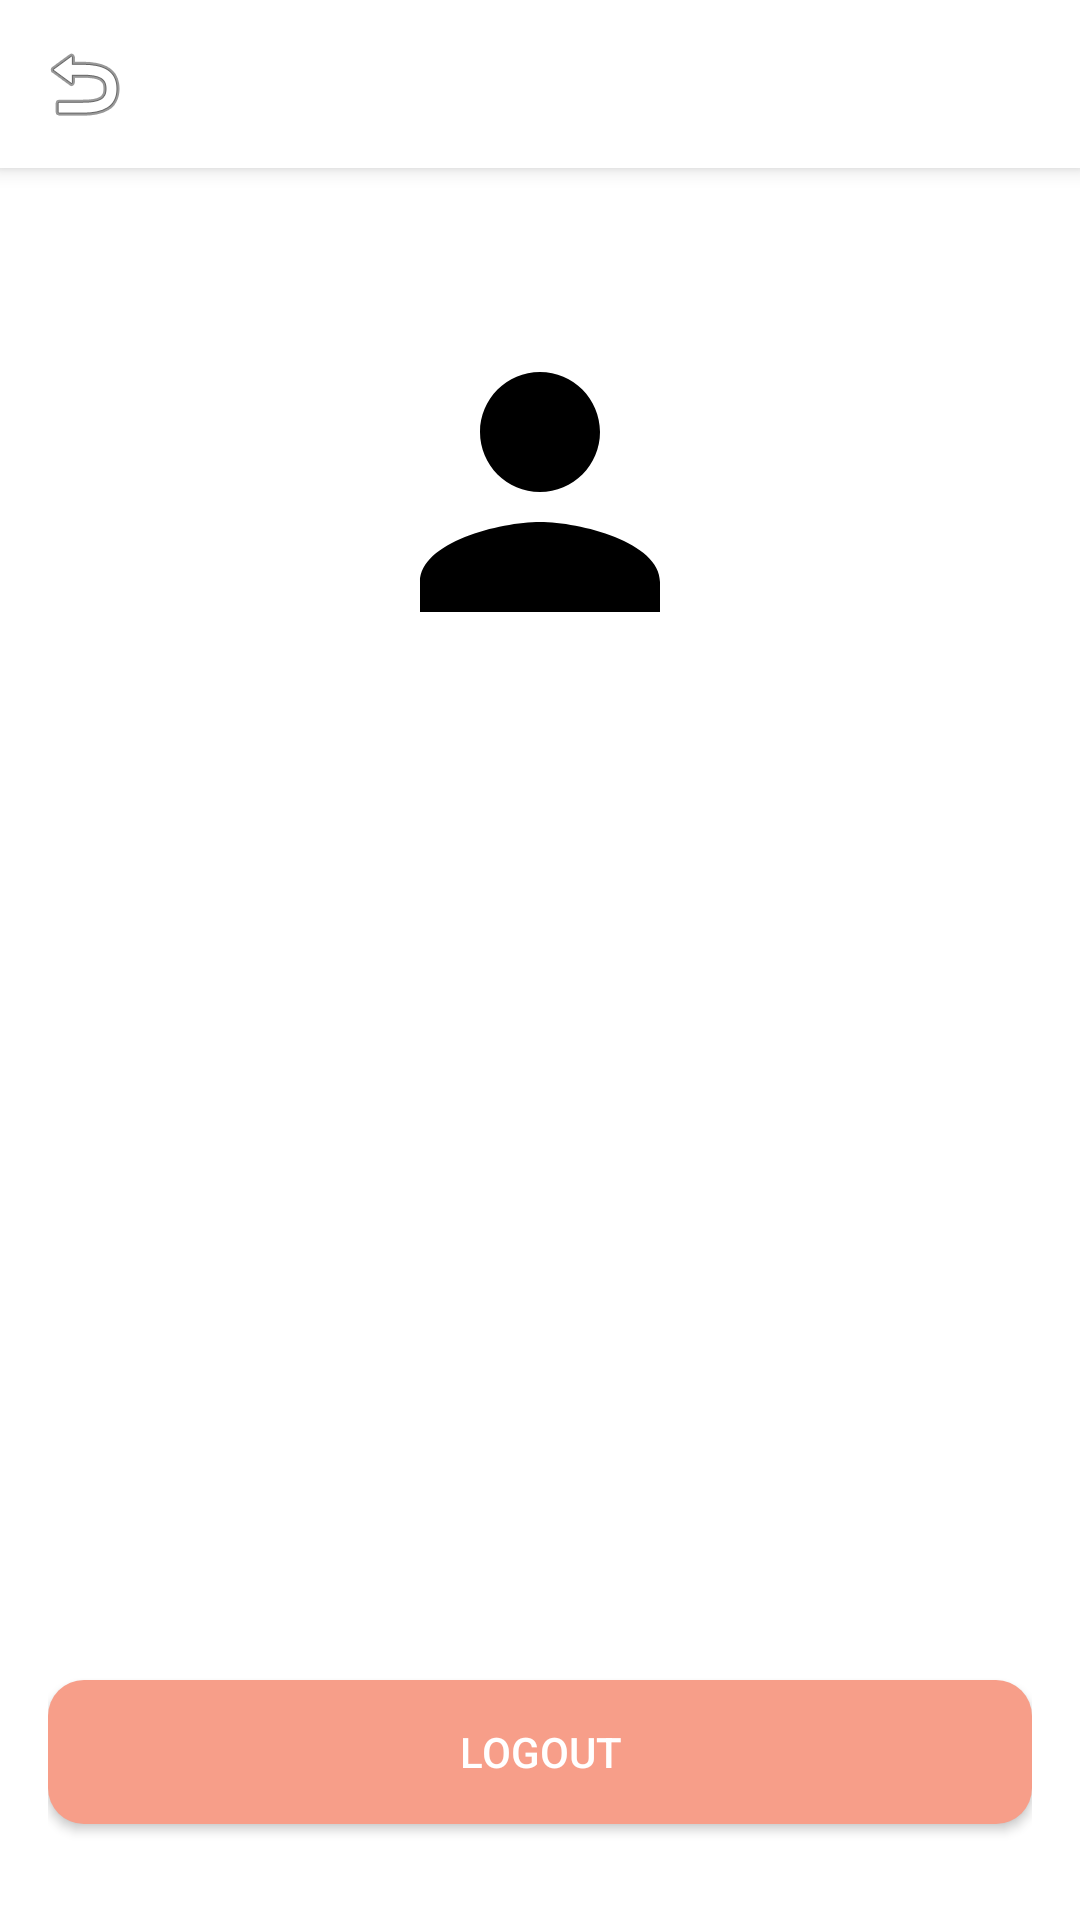

Icons on this 1080w x 1920h Android screen, each with the point to tap as [x,y]:
profile: [540,492]
revert: [85,84]
